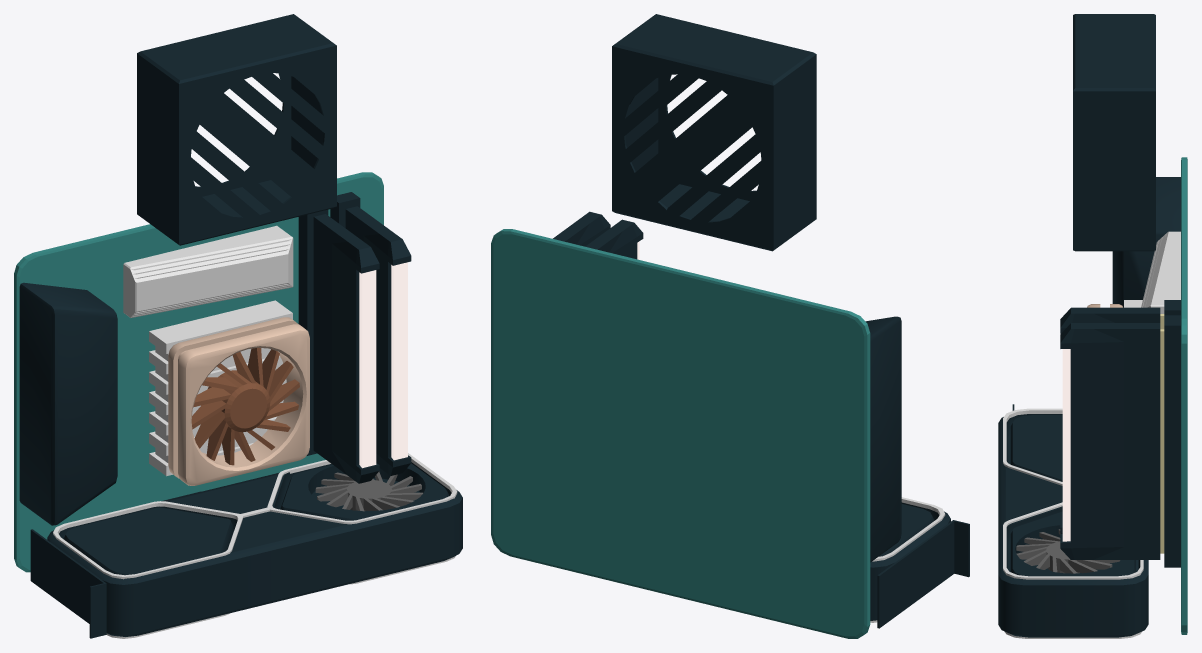
The model's file is computer-529cac57.glb.
3 renders of one model, left to right at view 1: azimuth 30°, elevation 25°; view 2: azimuth 150°, elevation 25°; view 3: azimuth 270°, elevation 25°, orthographic. The views are drawn at different scales.
Visible parts, largest first — view 1: gpu, psu, ram, motherboard, io, cpu_cooler, ssd, cpu_fan, ram_io, gpu_fan; view 2: motherboard, psu, gpu, io, ram; view 3: ram, psu, gpu, ram_io, motherboard, io, ssd, gpu_fan.
Part boxes in pixels (x1,y1,x2,y2): gpu: (30,453,462,638); psu: (137,14,336,245); ram: (313,206,411,483); motherboard: (14,172,383,572); io: (19,282,117,525); cpu_cooler: (149,300,309,485); ssd: (123,225,293,317); cpu_fan: (191,347,299,465); ram_io: (298,192,360,455); gpu_fan: (315,471,423,511); motherboard: (491,229,870,638); psu: (612,14,816,251); gpu: (870,497,969,628); io: (865,316,901,562); ram: (553,211,643,259); ram: (1060,307,1164,559); psu: (1073,14,1155,251); gpu: (998,404,1148,638); ram_io: (1164,300,1180,567); motherboard: (1181,157,1187,634); io: (1112,177,1180,307); ssd: (1141,231,1180,313); gpu_fan: (1016,529,1120,573).
Size of the model in its own units: 0.2373 by 0.3056 by 0.1041.
